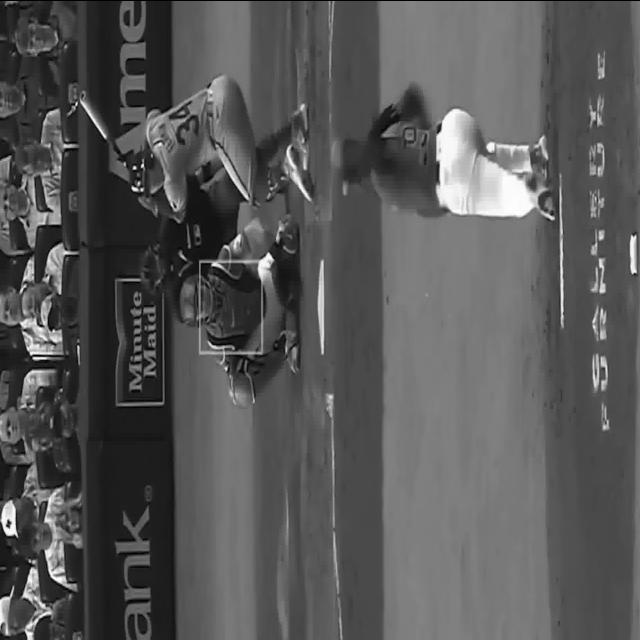bat: (82, 95, 140, 165)
shoe: (284, 144, 314, 203), (290, 102, 310, 170), (528, 134, 548, 180), (278, 272, 300, 312), (536, 188, 556, 222), (284, 343, 300, 373)
